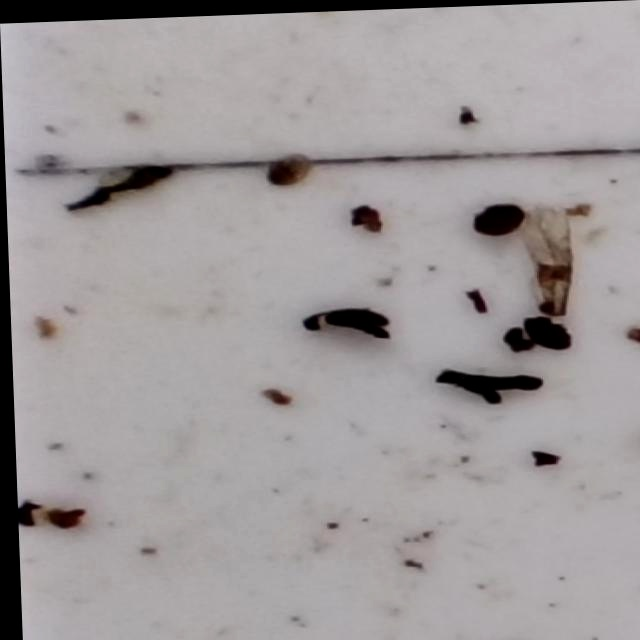varroa: (465, 203, 523, 236)
